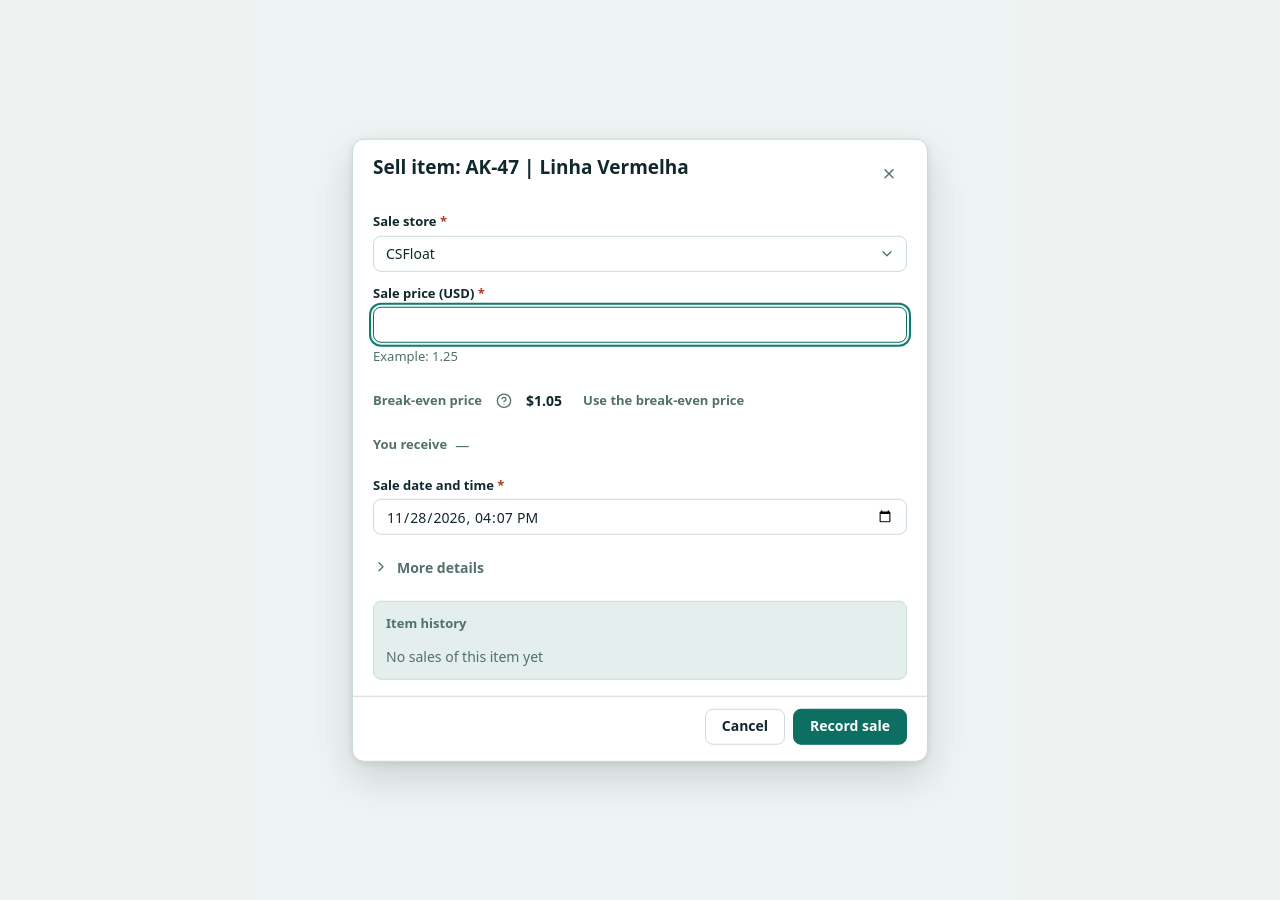
Test case: SellItemModal: líquido editável, Recalcular e preço mínimo › "Use the break-even price" preenche o preço e pede a prévia com esse valor
Expected: the text "Break-even price" is shown, [373,390,482,410]
Click the button "Use the break-even price" at (664, 400), box [570,386,757,414]
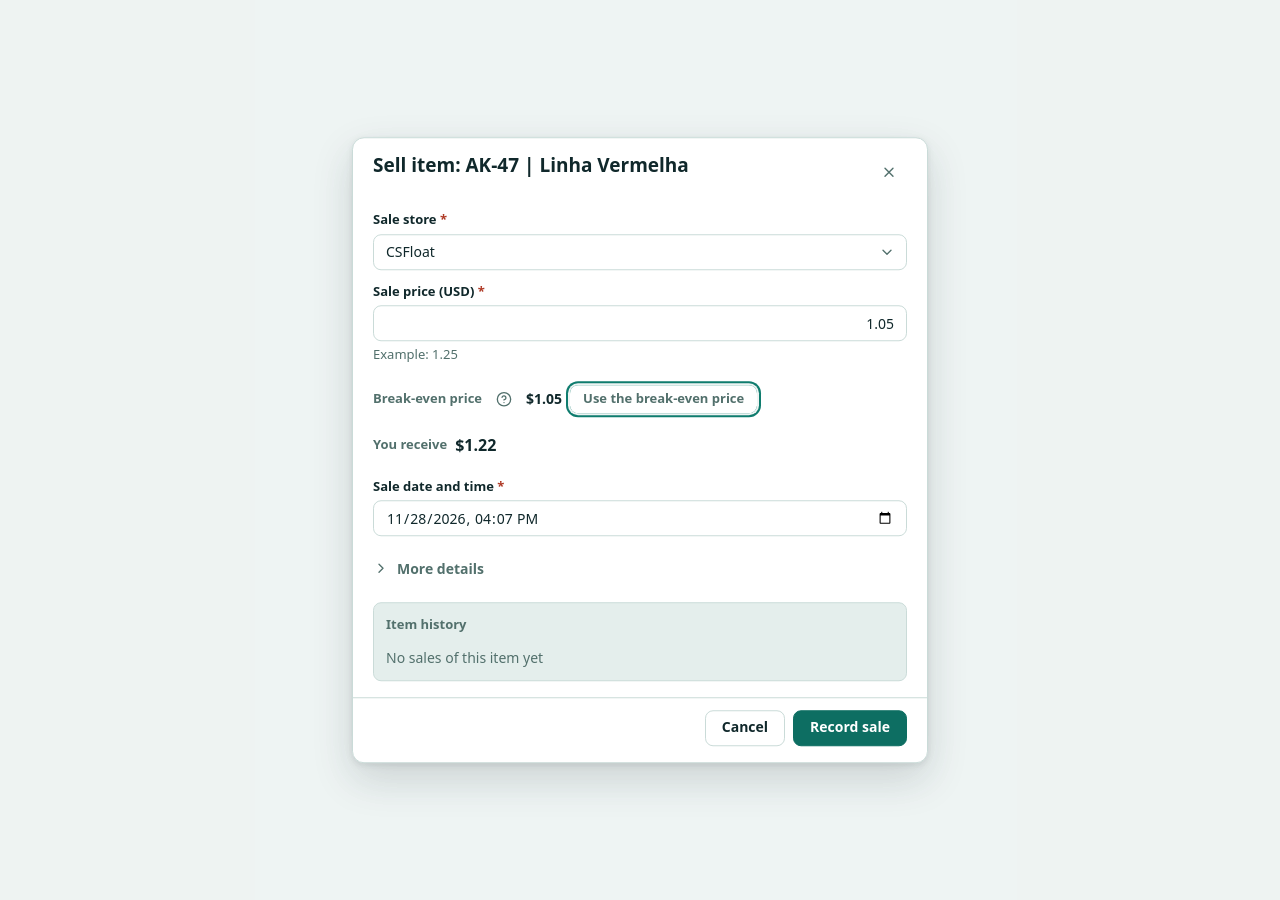
Expected: the field labelled "Sale price (USD) *" holds "1.05", [386,306,894,340]
